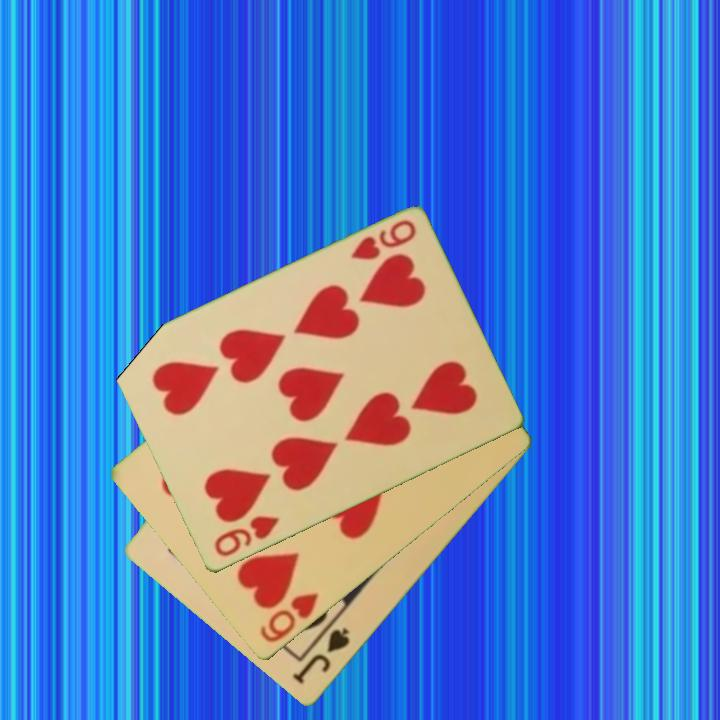6h: (256, 590, 322, 647)
9h: (346, 216, 420, 264), (210, 512, 282, 560)
Js: (289, 624, 353, 688)
